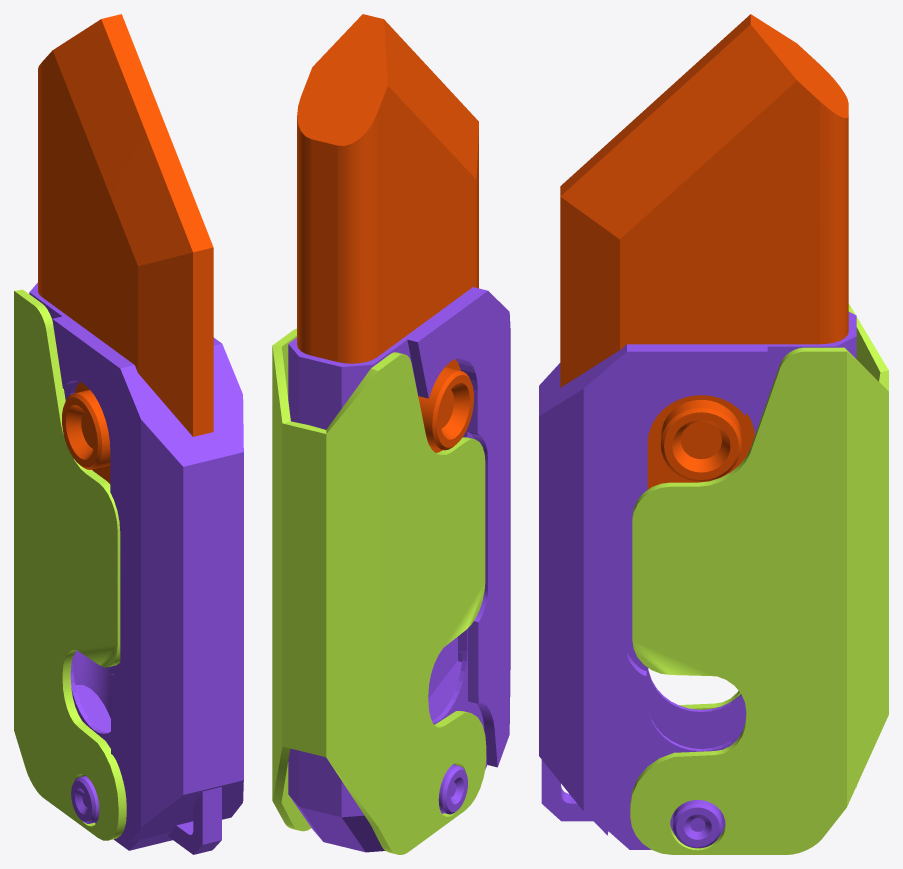
Rendered from CarrotKnife.fbx.
3 views of the same model, side by side, from view 1: azimuth 30°, elevation 25°; view 2: azimuth 150°, elevation 25°; view 3: azimuth 270°, elevation 25° (orthographic). The views are drawn at different scales.
Parts seen in each view (by area): view 1: Part2; view 2: Part2; view 3: Part2.
Part boxes in pixels (bbox=[...]): Part2: bbox=[14, 14, 243, 854]; Part2: bbox=[272, 14, 510, 854]; Part2: bbox=[539, 14, 888, 854].
Bounding box in the file's own units: 3.41 × 22.94 × 8.97.
